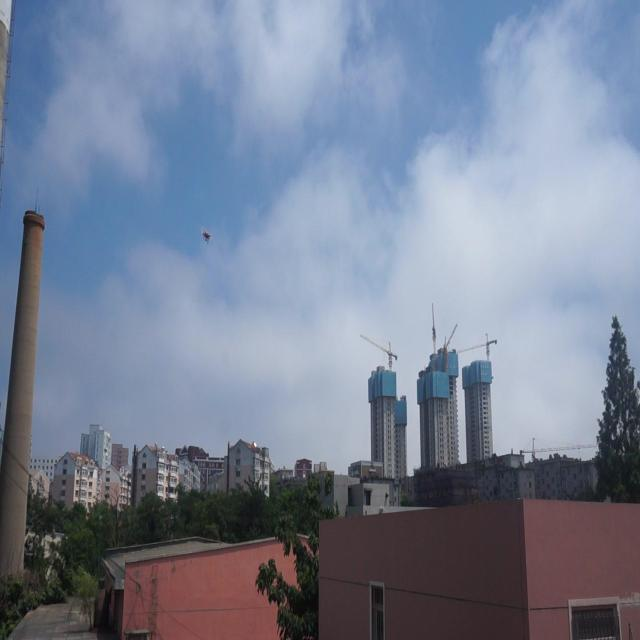drone: (200, 227, 214, 244)
